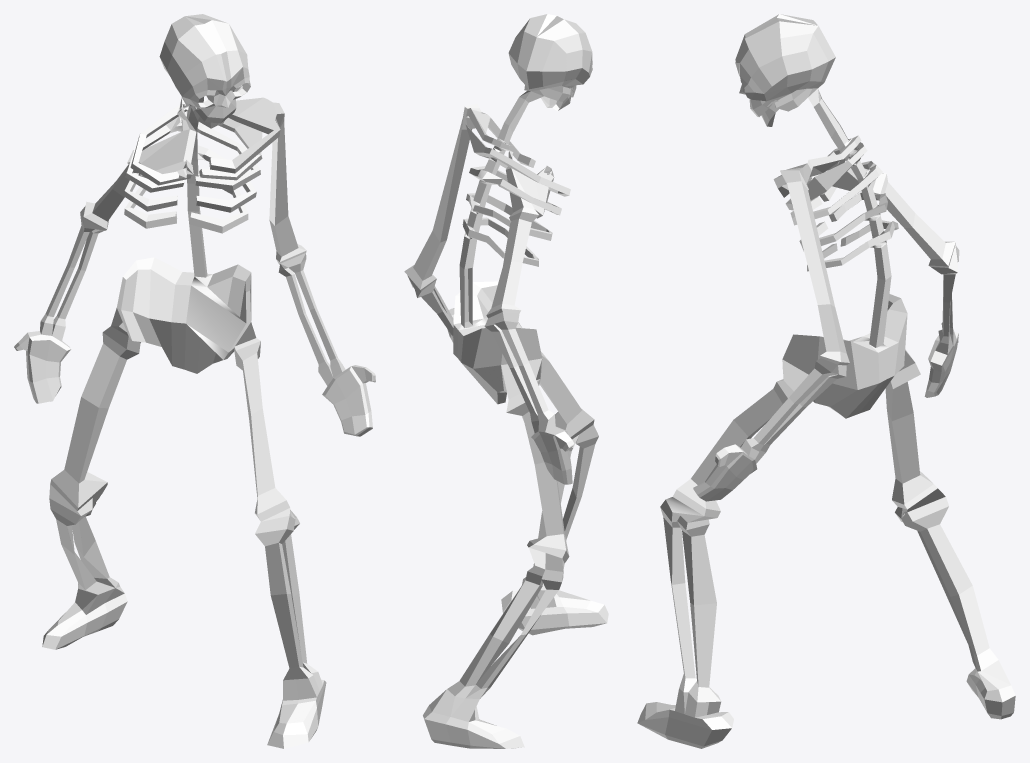
Rendered from SkeletonIdle(108).obj.
3 views of the same model, side by side, from view 1: azimuth 30°, elevation 25°; view 2: azimuth 150°, elevation 25°; view 3: azimuth 270°, elevation 25° (orthographic). The views are drawn at different scales.
Parts seen in each view (by area): view 1: Object002; view 2: Object002; view 3: Object002.
Part boxes in pixels (x1,y1,x2,y2): Object002: (14, 14, 375, 748); Object002: (404, 14, 608, 748); Object002: (637, 14, 1015, 748).
Size of the model in its own units: 423 by 1123 by 554.
